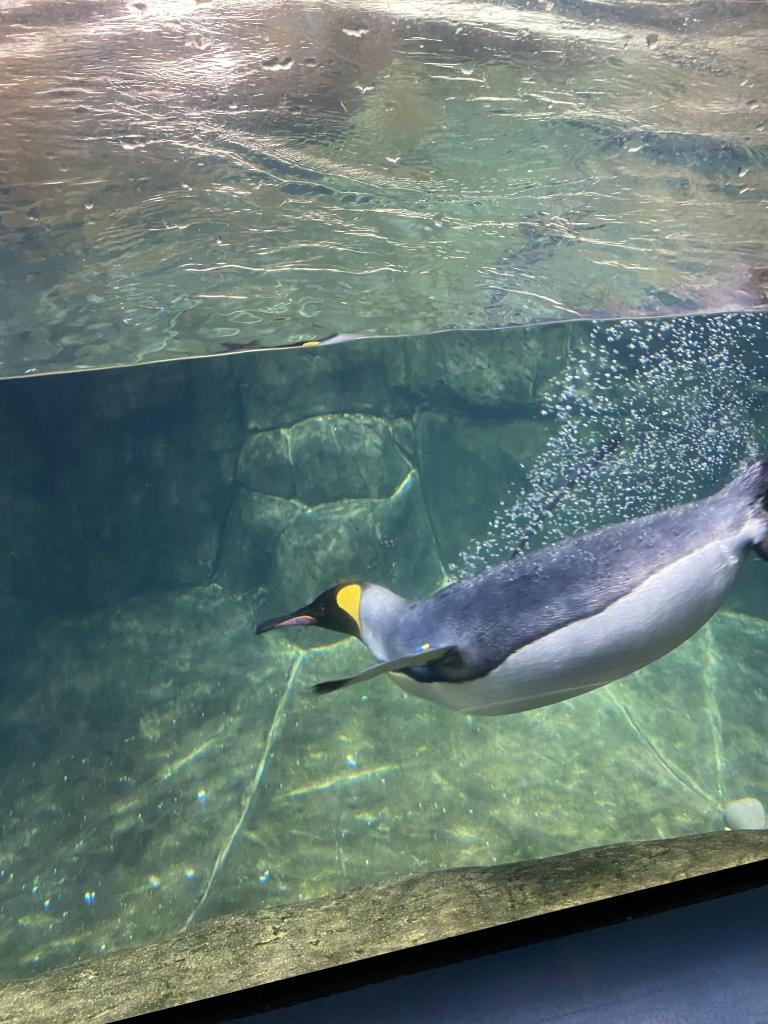penguin: (256, 461, 768, 719)
